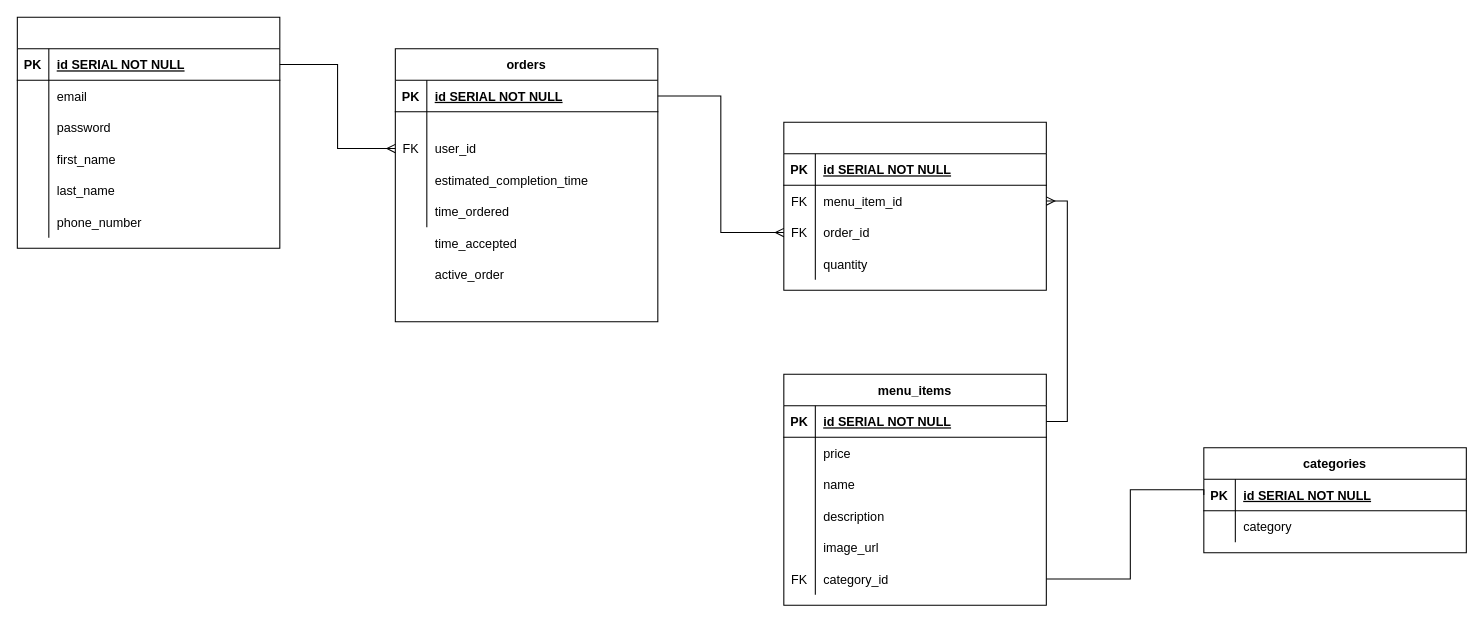
This 1484x623 diagram has some shape labels left out. The box of each missing label's shape, as (x1, y1, x2, y2) in pixels:
order_menu_items: (783, 121, 1046, 290)
users: (16, 16, 280, 248)
